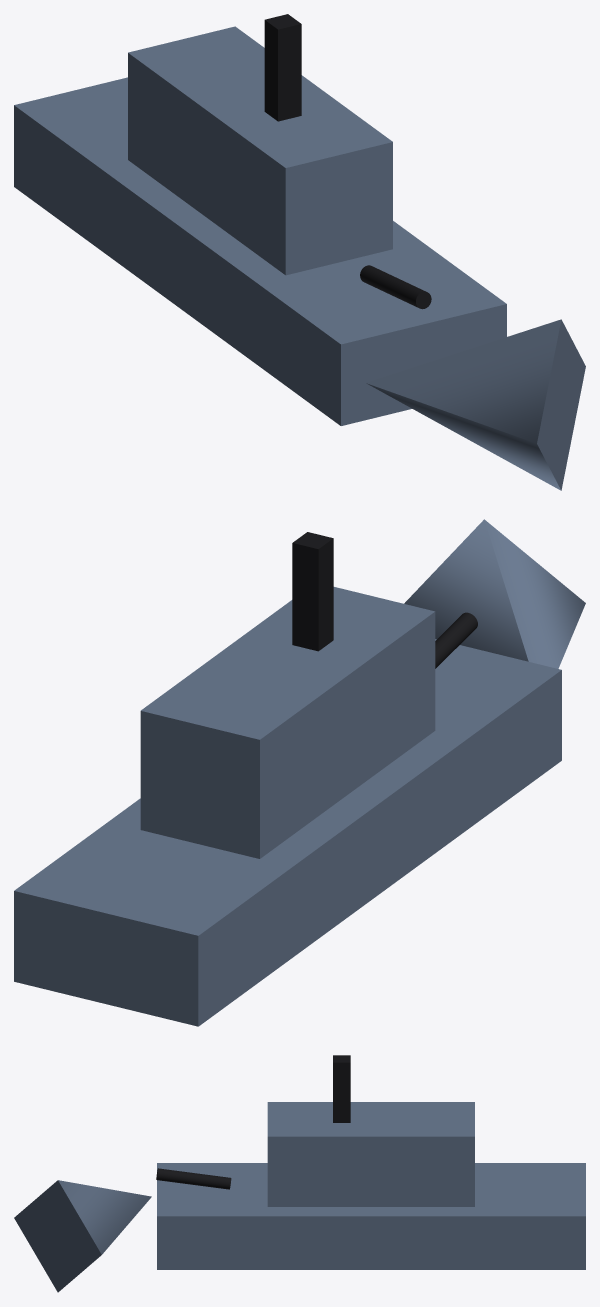
Rendered from warship.glb.
3 renders of one model, top to bottom at view 1: azimuth 30°, elevation 25°; view 2: azimuth 150°, elevation 25°; view 3: azimuth 270°, elevation 25°, orthographic. The views are drawn at different scales.
Size of the model in its own units: 0.2691 by 0.4127 by 1.
